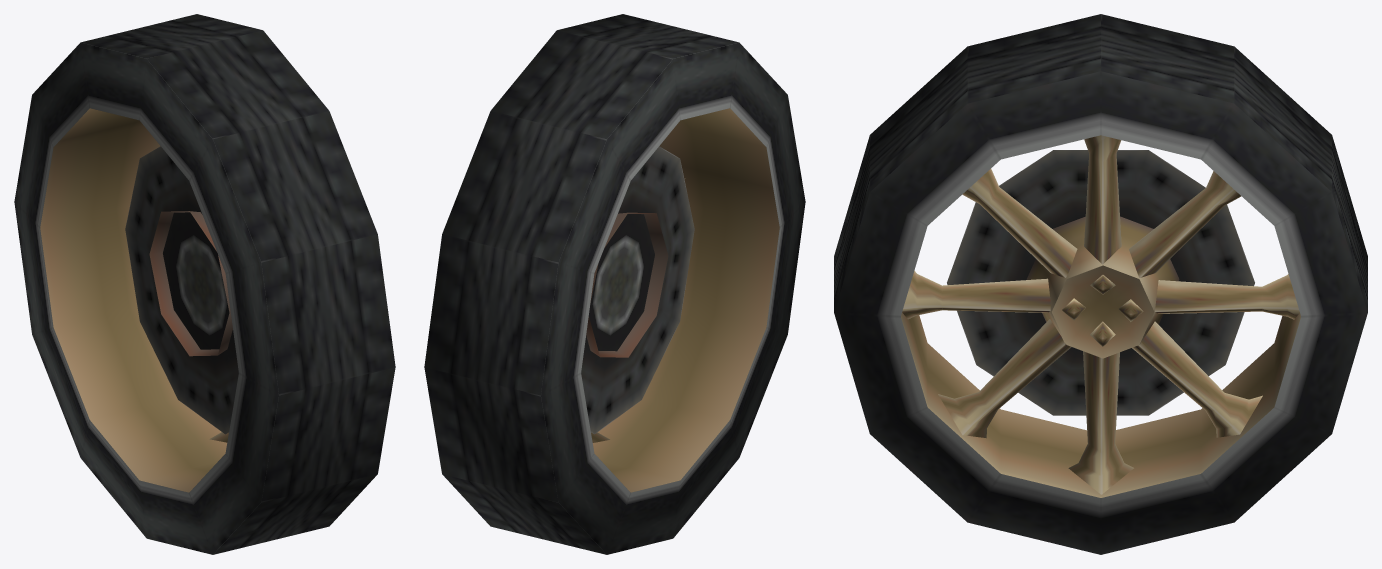
The model's file is wheel_sr5.glb.
3 views of the same model, side by side, from view 1: azimuth 30°, elevation 25°; view 2: azimuth 150°, elevation 25°; view 3: azimuth 270°, elevation 25° (orthographic).
Visible parts, largest first — view 1: wheel_sr5; view 2: wheel_sr5; view 3: wheel_sr5.
Boxes of the visible parts, left/top/right/bottom form: wheel_sr5: left=14, top=14, right=395, bottom=554; wheel_sr5: left=424, top=14, right=805, bottom=554; wheel_sr5: left=834, top=14, right=1367, bottom=554.
Size of the model in its own units: 0.2863 by 0.9843 by 0.9843.
2 materials, 2 textured.
